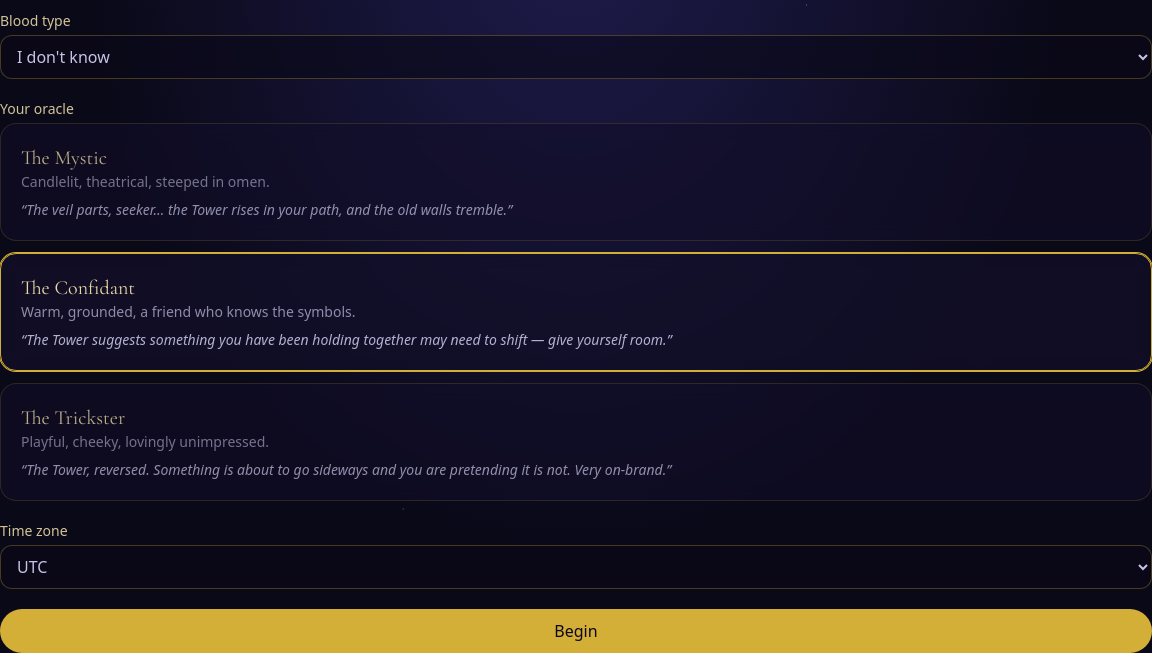
Test case: ProfileForm › requires a birth date
The image size is (1152, 653).
(page scrolled)
Click the button "Begin" at [576, 631], box [0,609,1151,652]
(page scrolled)
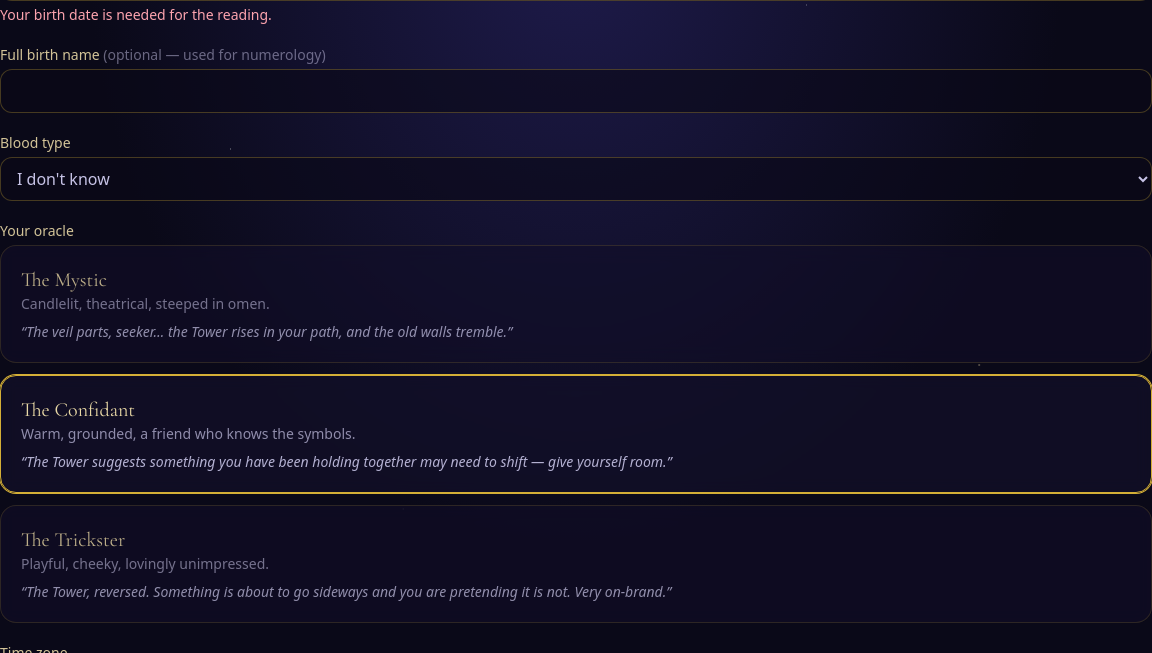
expect the text "Your birth date is needed for the reading." is shown: met, box [0,5,272,24]
